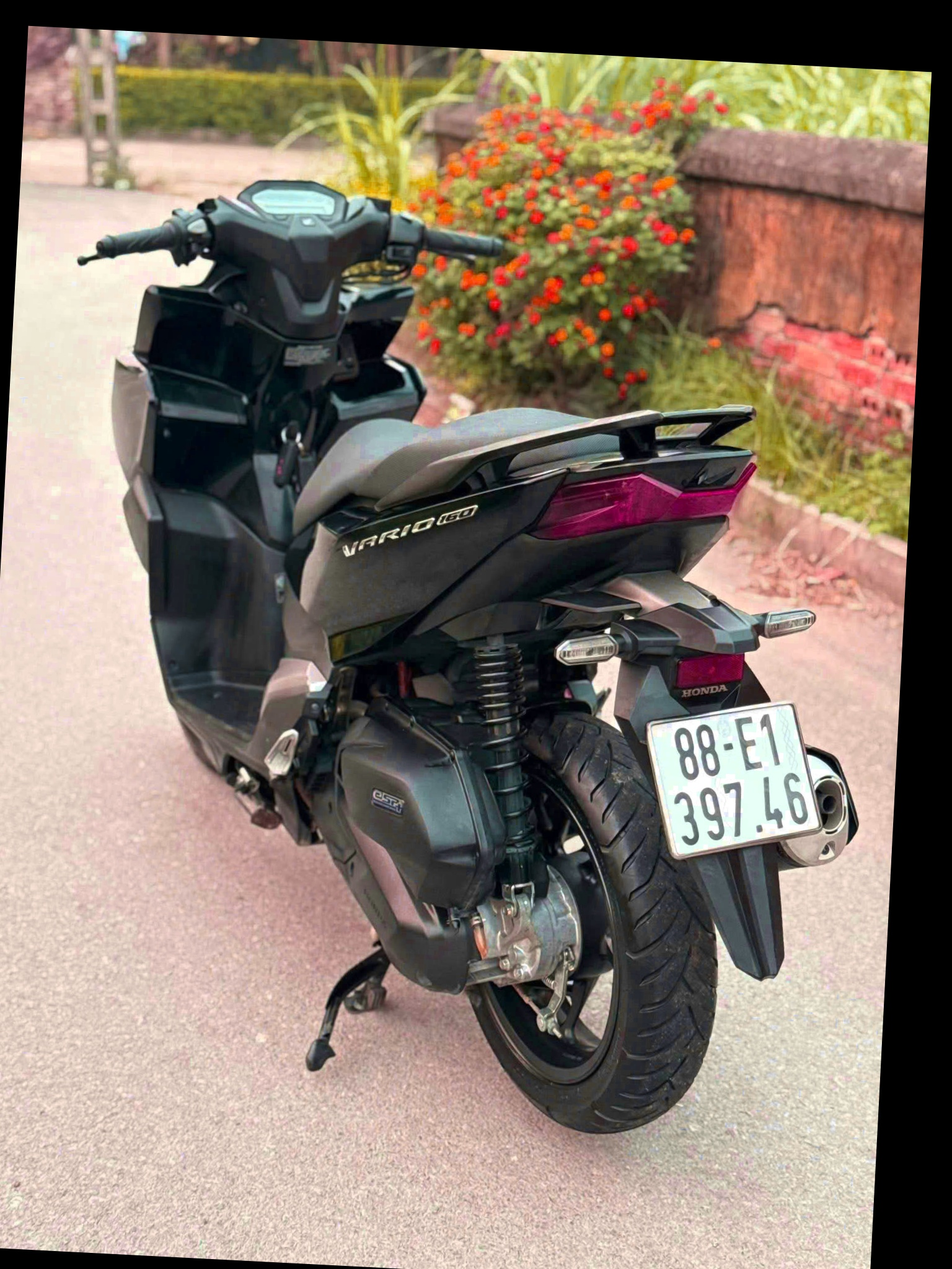Bien-so: (668, 665, 862, 844)
